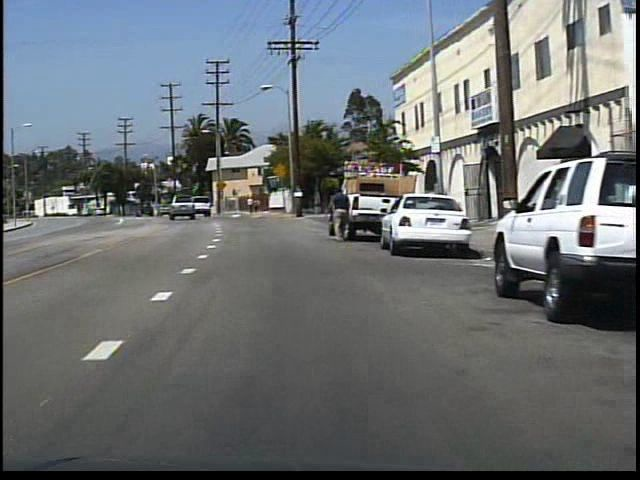person: (327, 185, 352, 245), (245, 196, 255, 218), (253, 196, 263, 215)
